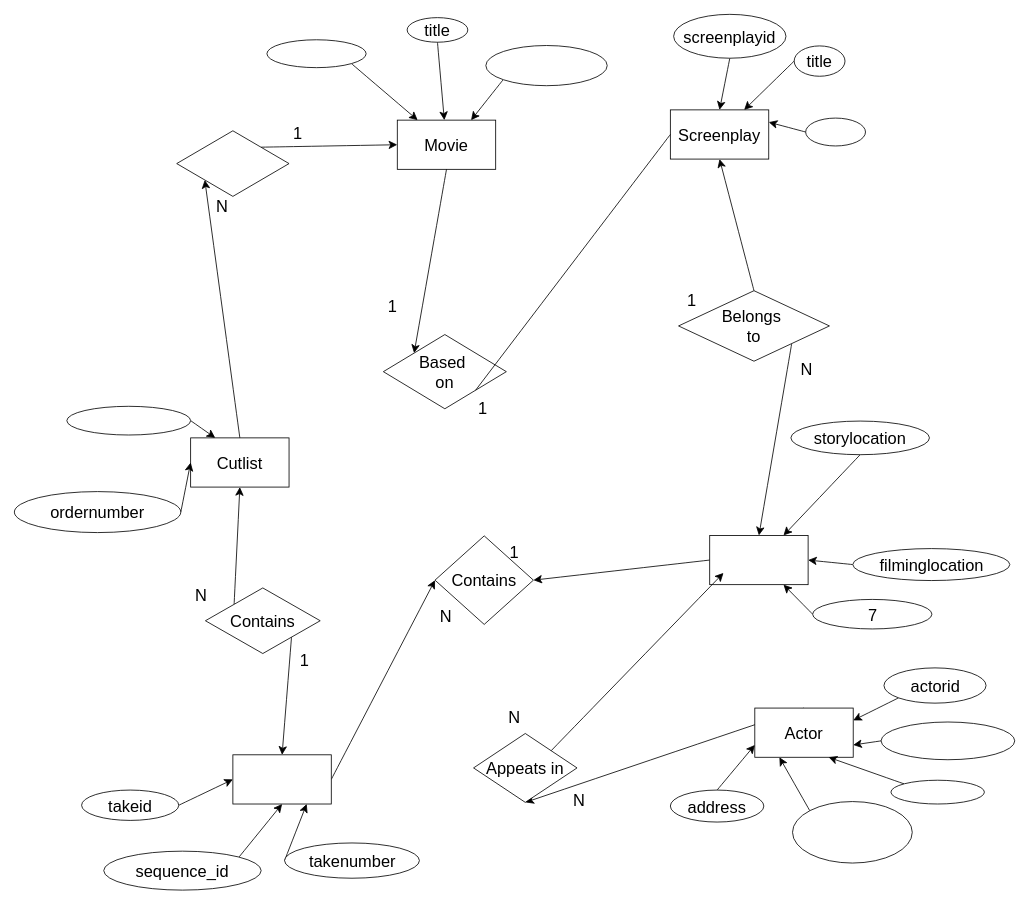
Some shapes in this 1029 by 904 pixel diagram are drawn without their labels. The centre of each missing label's shape, as x and y in pixels:
"agentname" belongs at point (947, 740).
"author" belongs at point (835, 131).
"cutlistid" belongs at point (128, 420).
"movieid" belongs at point (316, 53).
"name" belongs at point (937, 791).
"phonenumber" belongs at point (852, 832).
"releaseyear" belongs at point (546, 65).
"Scene" belongs at point (758, 560).
"Take" belongs at point (281, 779).
"Used in" belongs at point (232, 163).
